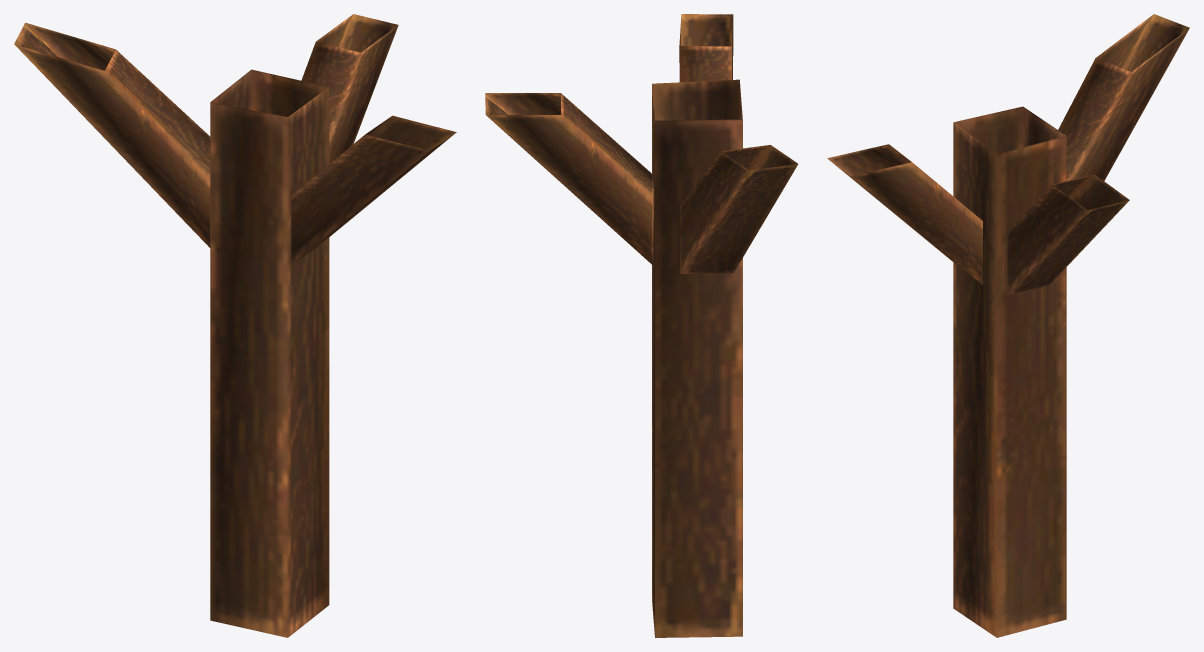
Rendered from SWORDLIGHT20_JAILPLATSUPPORT42.fbx.
3 views of the same model, side by side, from view 1: azimuth 30°, elevation 25°; view 2: azimuth 150°, elevation 25°; view 3: azimuth 270°, elevation 25° (orthographic). The views are drawn at different scales.
Parts seen in each view (by area): view 1: SWORDLIGHT20_JAILPLATSUPPORT42; view 2: SWORDLIGHT20_JAILPLATSUPPORT42; view 3: SWORDLIGHT20_JAILPLATSUPPORT42.
Part boxes in pixels (x1,y1,x2,y2): SWORDLIGHT20_JAILPLATSUPPORT42: [14, 14, 456, 637]; SWORDLIGHT20_JAILPLATSUPPORT42: [485, 14, 798, 637]; SWORDLIGHT20_JAILPLATSUPPORT42: [827, 14, 1189, 637].
Size of the model in its own units: 18317 by 27863 by 17668.
Materials: 1 (1 with a texture image).
